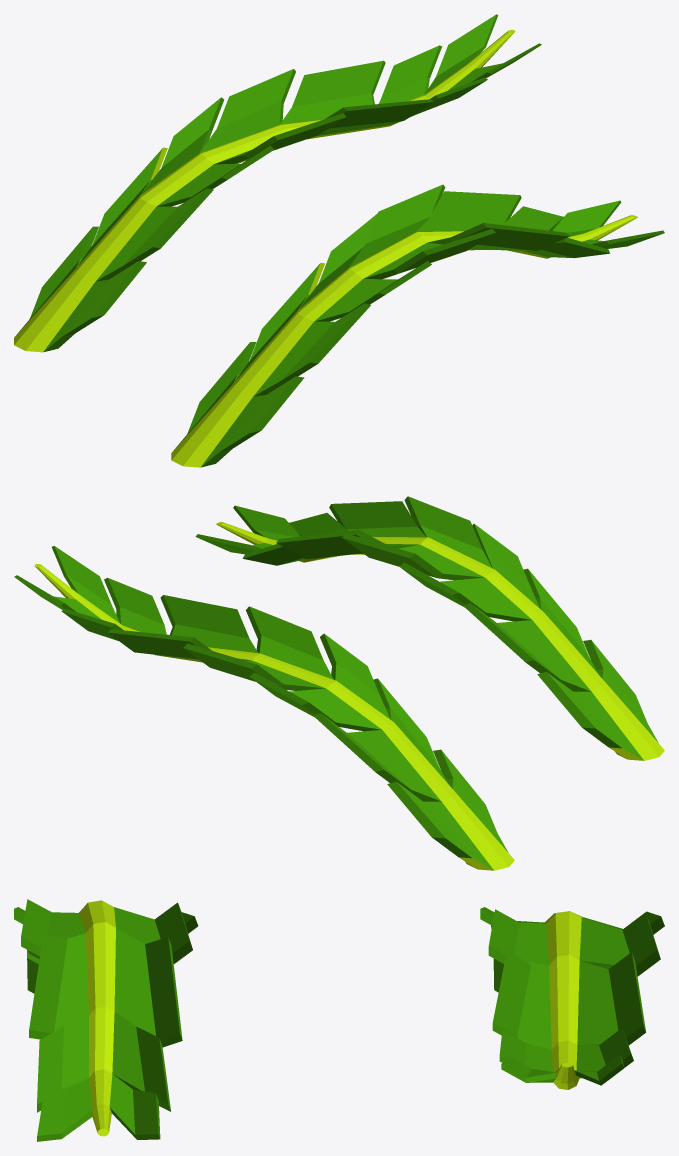
Rendered from Fern2.fbx.
3 views of the same model, one above another, from view 1: azimuth 30°, elevation 25°; view 2: azimuth 150°, elevation 25°; view 3: azimuth 270°, elevation 25° (orthographic). The views are drawn at different scales.
Parts seen in each view (by area): view 1: Fern 2, Fern 1; view 2: Fern 2, Fern 1; view 3: Fern 1, Fern 2.
Part boxes in pixels (x1,y1,x2,y2): Fern 2: (14, 14, 541, 352); Fern 1: (171, 184, 664, 467); Fern 2: (14, 546, 514, 870); Fern 1: (195, 496, 664, 760); Fern 1: (14, 899, 198, 1141); Fern 2: (480, 907, 664, 1089).
Size of the model in its own units: 1016 by 380 by 767.
